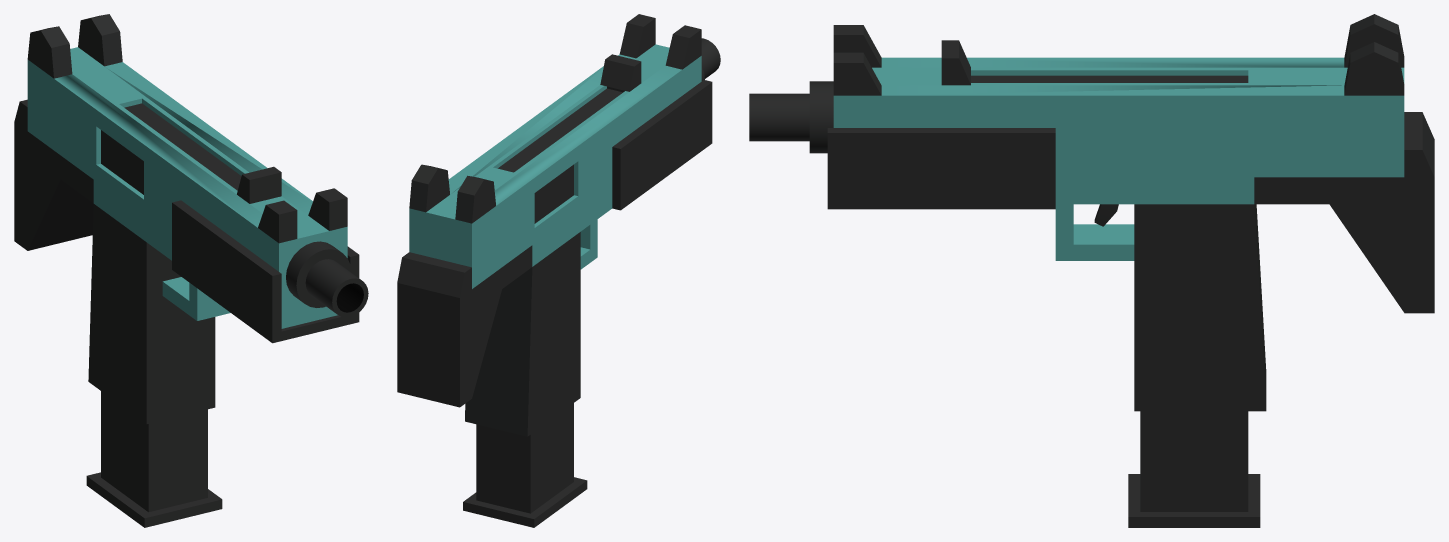
The model's file is Uzi.fbx.
3 views of the same model, side by side, from view 1: azimuth 30°, elevation 25°; view 2: azimuth 150°, elevation 25°; view 3: azimuth 270°, elevation 25° (orthographic). The views are drawn at different scales.
Visible parts, largest first — view 1: Uzi; view 2: Uzi; view 3: Uzi.
Part boxes in pixels (x1=…): Uzi: x1=14, y1=14, x2=368, y2=527; Uzi: x1=397, y1=14, x2=720, y2=527; Uzi: x1=749, y1=14, x2=1434, y2=527.
Bounding box in the file's own units: 17.1 × 78.3 × 103.
